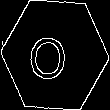O_N: (35, 29, 75, 81)
